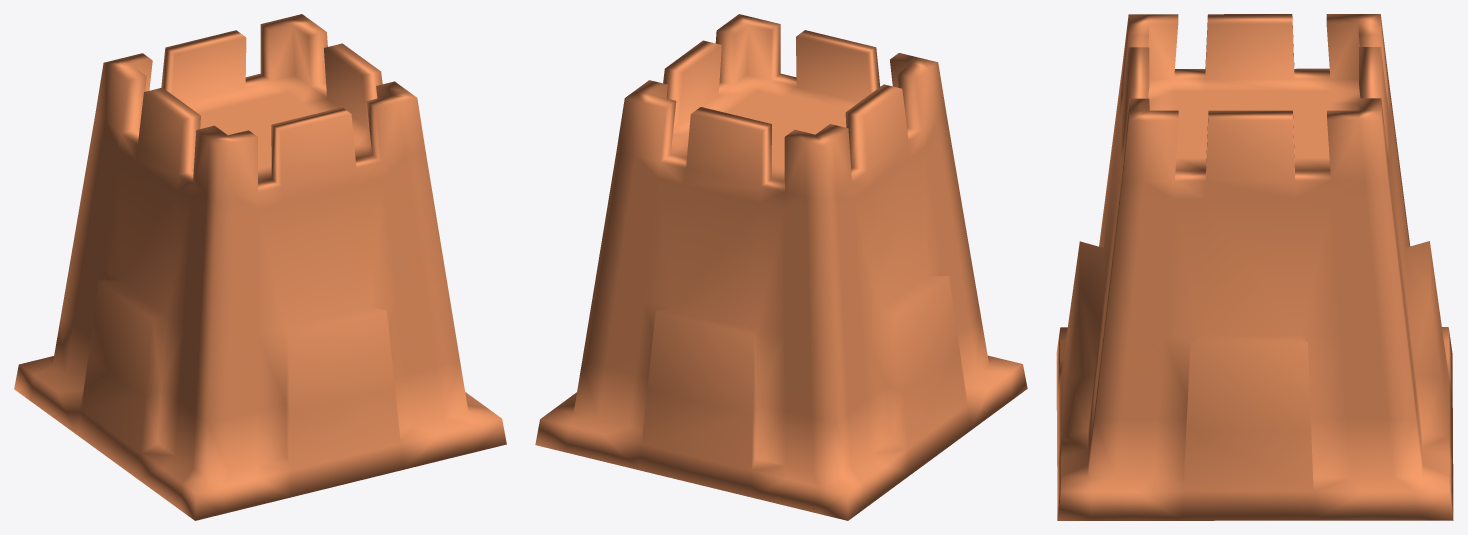
Rendered from Sandcastle.fbx.
3 renders of one model, left to right at view 1: azimuth 30°, elevation 25°; view 2: azimuth 150°, elevation 25°; view 3: azimuth 270°, elevation 25°, orthographic. The views are drawn at different scales.
Visible parts, largest first — view 1: Sandcastle; view 2: Sandcastle; view 3: Sandcastle.
Boxes of the visible parts, box(x1,y1,x2,y2) form: Sandcastle: box(14, 14, 506, 520); Sandcastle: box(535, 14, 1027, 520); Sandcastle: box(1056, 14, 1453, 520).
Size of the model in its own units: 61.3 by 62.98 by 61.3.
Materials: 1 (1 with a texture image).
